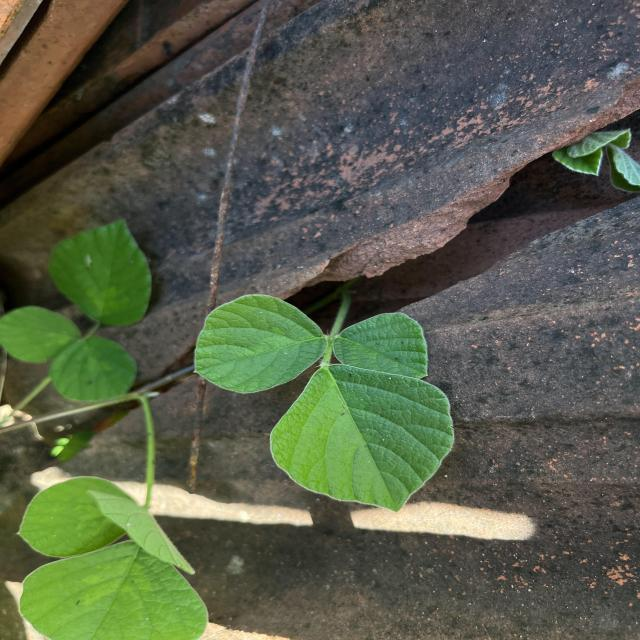Pseudarthria viscida: (191, 292, 459, 516)
